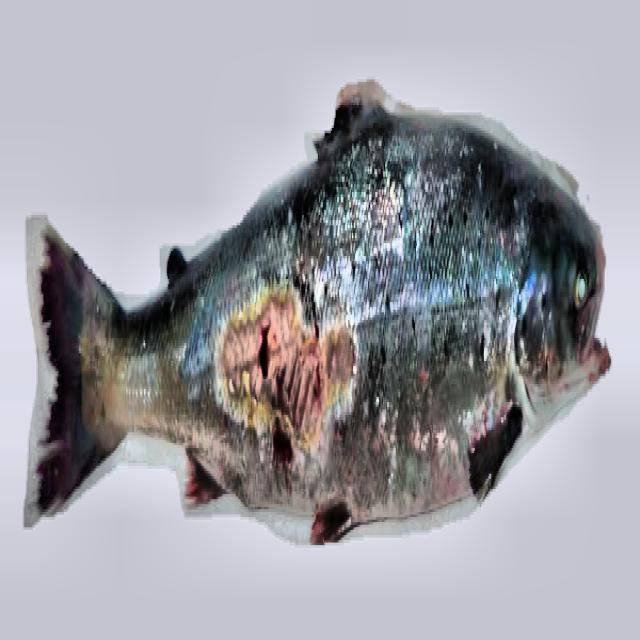mild_red: (111, 112, 540, 516)
wound: (223, 292, 356, 461)
